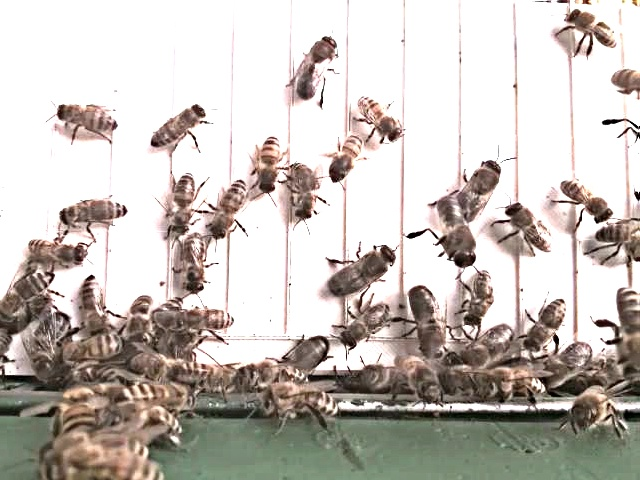Drone: (327, 241, 401, 297), (432, 193, 480, 269), (406, 280, 450, 362), (294, 31, 342, 102), (458, 155, 504, 218)
Worker: (150, 100, 209, 151), (505, 198, 558, 254), (206, 176, 252, 240), (524, 293, 571, 353), (338, 299, 395, 348), (355, 91, 406, 145), (563, 5, 623, 50), (561, 175, 614, 223), (1, 266, 58, 307), (179, 228, 213, 295), (59, 196, 132, 227), (174, 302, 242, 335), (464, 264, 499, 328), (330, 128, 367, 187), (55, 102, 122, 134), (80, 271, 113, 335), (26, 233, 90, 265), (170, 169, 199, 239), (290, 159, 322, 221), (259, 130, 284, 193)
